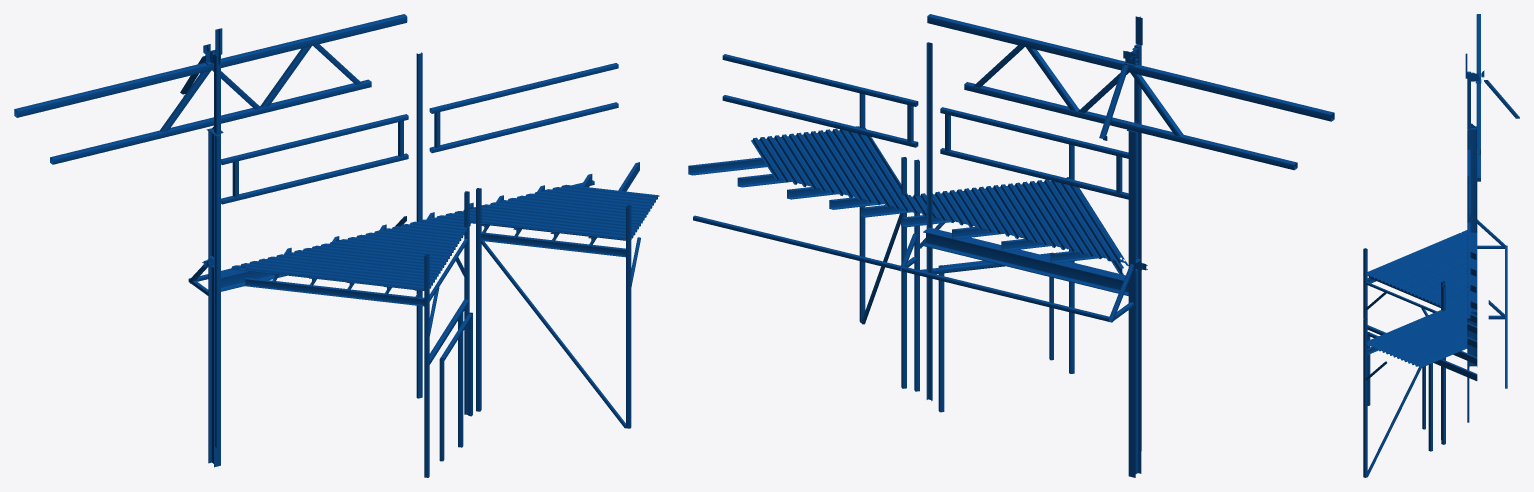
Rendered from GCC-AAV-13220-30.nwd(105).fbx.
3 renders of one model, left to right at view 1: azimuth 30°, elevation 25°; view 2: azimuth 150°, elevation 25°; view 3: azimuth 270°, elevation 25°, orthographic. The views are drawn at different scales.
Visible parts, largest first — view 1: Группа фасетов (×4), PANEL 210 of FRMWORK /GCC-AFT-DDD-13220-11-5206-KM_KM2-UNPLA, PANEL 218 of FRMWORK /GCC-AFT-DDD-13220-11-5206-KM_KM2-UNPLA, PANEL 211 of FRMWORK /GCC-AFT-DDD-13220-11-5206-KM_KM2-UNPLA, GENSEC 1 of SBFRAMEWORK /13220-BD-001-212-5206/CS/KM2/K/ROW_, PANEL 234 of FRMWORK /GCC-AFT-DDD-13220-11-5206-KM_KM2-UNPLA, GENSEC 279 of FRMWORK /GCC-AFT-DDD-13220-11-5206-KM_KM2-UNPL, PANEL 212 of FRMWORK /GCC-AFT-DDD-13220-11-5206-KM_KM2-UNPLA, PANEL 220 of FRMWORK /GCC-AFT-DDD-13220-11-5206-KM_KM2-UNPLA, PANEL 213 of FRMWORK /GCC-AFT-DDD-13220-11-5206-KM_KM2-UNPLA, PANEL 219 of FRMWORK /GCC-AFT-DDD-13220-11-5206-KM_KM2-UNPLA, PANEL 221 of FRMWORK /GCC-AFT-DDD-13220-11-5206-KM_KM2-UNPLA (+14 smaller); view 2: Группа фасетов (×4), GENSEC 2 of SBFRAMEWORK /13220-BD-001-211-5206/CS/KM1/B/+6.6, PANEL 210 of FRMWORK /GCC-AFT-DDD-13220-11-5206-KM_KM2-UNPLA, GENSEC 1 of SBFRAMEWORK /13220-BD-001-212-5206/CS/KM2/K/ROW_, PANEL 218 of FRMWORK /GCC-AFT-DDD-13220-11-5206-KM_KM2-UNPLA, PANEL 211 of FRMWORK /GCC-AFT-DDD-13220-11-5206-KM_KM2-UNPLA, PANEL 219 of FRMWORK /GCC-AFT-DDD-13220-11-5206-KM_KM2-UNPLA, PANEL 234 of FRMWORK /GCC-AFT-DDD-13220-11-5206-KM_KM2-UNPLA, PANEL 212 of FRMWORK /GCC-AFT-DDD-13220-11-5206-KM_KM2-UNPLA, PANEL 220 of FRMWORK /GCC-AFT-DDD-13220-11-5206-KM_KM2-UNPLA, PANEL 213 of FRMWORK /GCC-AFT-DDD-13220-11-5206-KM_KM2-UNPLA, GENSEC 9 of SBFRAMEWORK /13220-BD-001-212-5206/CS/KM2/B/+9.5 (+13 smaller); view 3: Группа фасетов (×6), PANEL 210 of FRMWORK /GCC-AFT-DDD-13220-11-5206-KM_KM2-UNPLA, PANEL 218 of FRMWORK /GCC-AFT-DDD-13220-11-5206-KM_KM2-UNPLA, PANEL 211 of FRMWORK /GCC-AFT-DDD-13220-11-5206-KM_KM2-UNPLA, PANEL 219 of FRMWORK /GCC-AFT-DDD-13220-11-5206-KM_KM2-UNPLA, PANEL 234 of FRMWORK /GCC-AFT-DDD-13220-11-5206-KM_KM2-UNPLA, PANEL 212 of FRMWORK /GCC-AFT-DDD-13220-11-5206-KM_KM2-UNPLA, GENSEC 236 of FRMWORK /GCC-AFT-DDD-13220-11-5206-KM_KM2-UNPL, PANEL 220 of FRMWORK /GCC-AFT-DDD-13220-11-5206-KM_KM2-UNPLA, PANEL 213 of FRMWORK /GCC-AFT-DDD-13220-11-5206-KM_KM2-UNPLA, PANEL 221 of FRMWORK /GCC-AFT-DDD-13220-11-5206-KM_KM2-UNPLA, PANEL 214 of FRMWORK /GCC-AFT-DDD-13220-11-5206-KM_KM2-UNPLA (+15 smaller).
Part boxes in pixels (x1,y1,x2,y2): Группа фасетов (×4): (14, 14, 407, 467); PANEL 210 of FRMWORK /GCC-AFT-DDD-13220-11-5206-KM_KM2-UNPLA: (229, 259, 436, 290); PANEL 218 of FRMWORK /GCC-AFT-DDD-13220-11-5206-KM_KM2-UNPLA: (454, 205, 642, 234); PANEL 211 of FRMWORK /GCC-AFT-DDD-13220-11-5206-KM_KM2-UNPLA: (258, 252, 442, 281); GENSEC 1 of SBFRAMEWORK /13220-BD-001-212-5206/CS/KM2/K/ROW_: (416, 52, 422, 398); PANEL 234 of FRMWORK /GCC-AFT-DDD-13220-11-5206-KM_KM2-UNPLA: (419, 213, 634, 240); GENSEC 279 of FRMWORK /GCC-AFT-DDD-13220-11-5206-KM_KM2-UNPL: (245, 277, 424, 306); PANEL 212 of FRMWORK /GCC-AFT-DDD-13220-11-5206-KM_KM2-UNPLA: (285, 246, 447, 272); PANEL 220 of FRMWORK /GCC-AFT-DDD-13220-11-5206-KM_KM2-UNPLA: (508, 192, 652, 216); PANEL 213 of FRMWORK /GCC-AFT-DDD-13220-11-5206-KM_KM2-UNPLA: (312, 239, 453, 263); PANEL 219 of FRMWORK /GCC-AFT-DDD-13220-11-5206-KM_KM2-UNPLA: (482, 198, 647, 225); PANEL 221 of FRMWORK /GCC-AFT-DDD-13220-11-5206-KM_KM2-UNPLA: (534, 184, 659, 207); Группа фасетов (×4): (688, 14, 1334, 477); GENSEC 2 of SBFRAMEWORK /13220-BD-001-211-5206/CS/KM1/B/+6.6: (923, 227, 1131, 296); PANEL 210 of FRMWORK /GCC-AFT-DDD-13220-11-5206-KM_KM2-UNPLA: (1043, 177, 1128, 265); GENSEC 1 of SBFRAMEWORK /13220-BD-001-212-5206/CS/KM2/K/ROW_: (926, 42, 932, 401); PANEL 218 of FRMWORK /GCC-AFT-DDD-13220-11-5206-KM_KM2-UNPLA: (816, 128, 897, 209); PANEL 211 of FRMWORK /GCC-AFT-DDD-13220-11-5206-KM_KM2-UNPLA: (1021, 179, 1100, 258); PANEL 219 of FRMWORK /GCC-AFT-DDD-13220-11-5206-KM_KM2-UNPLA: (795, 130, 869, 201); PANEL 234 of FRMWORK /GCC-AFT-DDD-13220-11-5206-KM_KM2-UNPLA: (846, 126, 934, 218); PANEL 212 of FRMWORK /GCC-AFT-DDD-13220-11-5206-KM_KM2-UNPLA: (999, 182, 1072, 251); PANEL 220 of FRMWORK /GCC-AFT-DDD-13220-11-5206-KM_KM2-UNPLA: (773, 133, 842, 195); PANEL 213 of FRMWORK /GCC-AFT-DDD-13220-11-5206-KM_KM2-UNPLA: (977, 184, 1045, 245); GENSEC 9 of SBFRAMEWORK /13220-BD-001-212-5206/CS/KM2/B/+9.5: (722, 54, 918, 106); Группа фасетов (×6): (1368, 14, 1519, 380); PANEL 210 of FRMWORK /GCC-AFT-DDD-13220-11-5206-KM_KM2-UNPLA: (1365, 230, 1467, 280); PANEL 218 of FRMWORK /GCC-AFT-DDD-13220-11-5206-KM_KM2-UNPLA: (1372, 307, 1467, 353); PANEL 211 of FRMWORK /GCC-AFT-DDD-13220-11-5206-KM_KM2-UNPLA: (1374, 239, 1467, 285); PANEL 219 of FRMWORK /GCC-AFT-DDD-13220-11-5206-KM_KM2-UNPLA: (1383, 317, 1467, 358); PANEL 234 of FRMWORK /GCC-AFT-DDD-13220-11-5206-KM_KM2-UNPLA: (1365, 295, 1467, 347); PANEL 212 of FRMWORK /GCC-AFT-DDD-13220-11-5206-KM_KM2-UNPLA: (1385, 249, 1467, 289); GENSEC 236 of FRMWORK /GCC-AFT-DDD-13220-11-5206-KM_KM2-UNPL: (1363, 318, 1367, 477); PANEL 220 of FRMWORK /GCC-AFT-DDD-13220-11-5206-KM_KM2-UNPLA: (1394, 327, 1467, 363); PANEL 213 of FRMWORK /GCC-AFT-DDD-13220-11-5206-KM_KM2-UNPLA: (1396, 259, 1467, 294); PANEL 221 of FRMWORK /GCC-AFT-DDD-13220-11-5206-KM_KM2-UNPLA: (1405, 336, 1467, 368); PANEL 214 of FRMWORK /GCC-AFT-DDD-13220-11-5206-KM_KM2-UNPLA: (1407, 268, 1467, 299).
Size of the model in its own units: 730 by 506 by 223.
